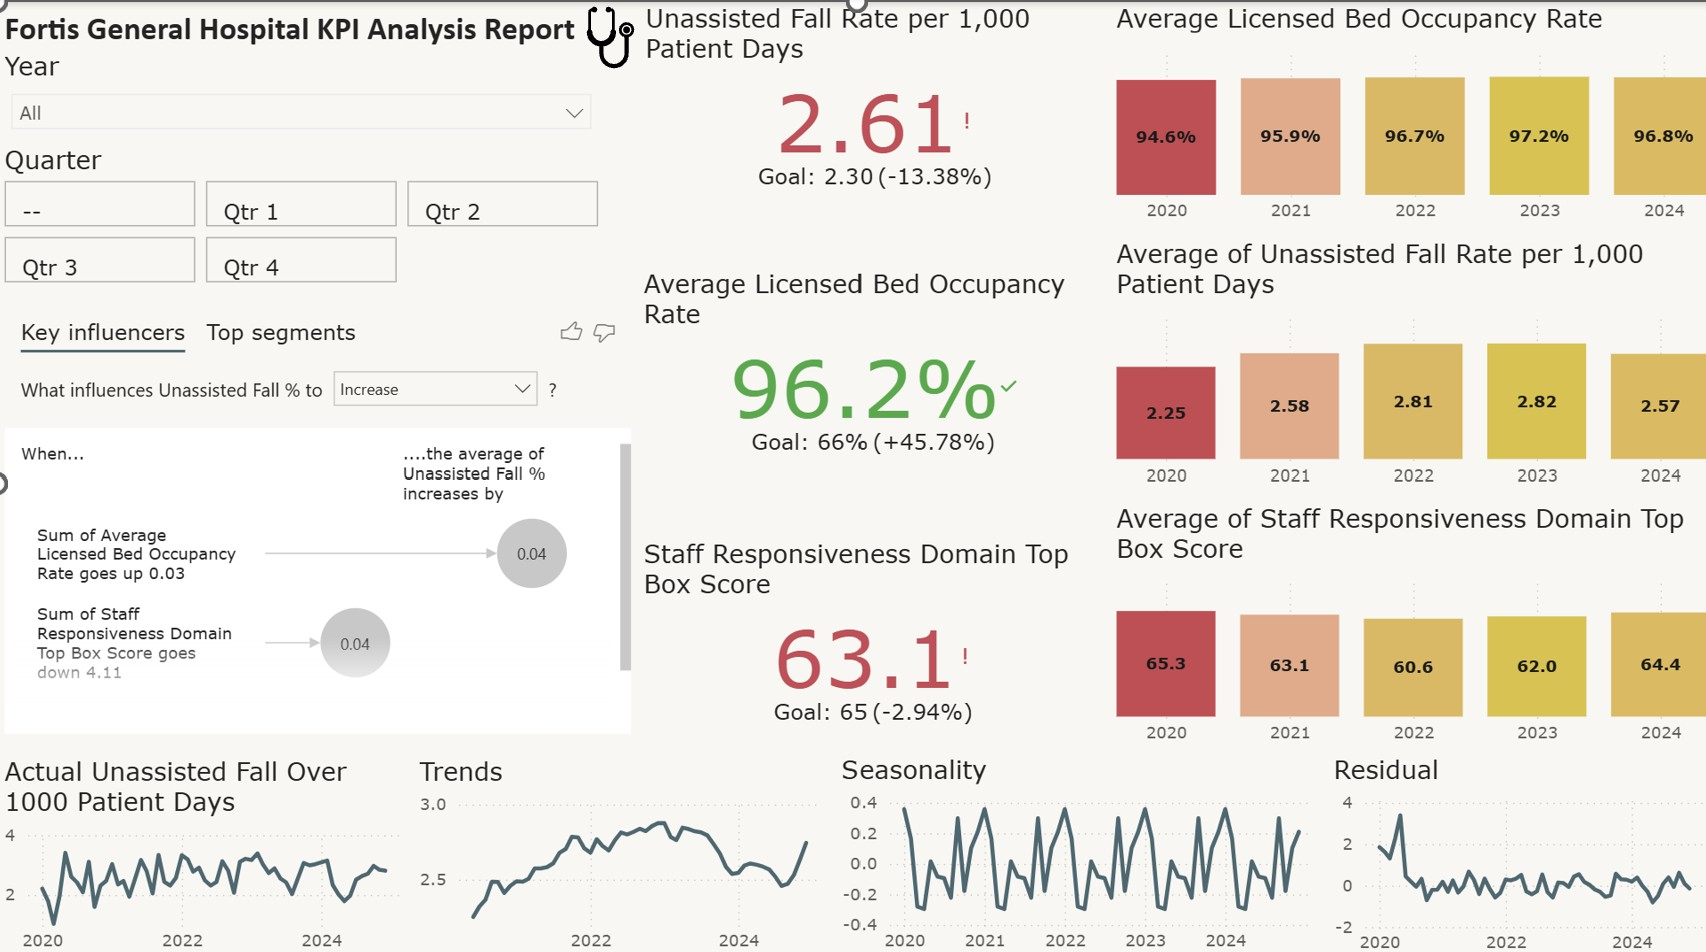

The dashboard page shown, as its layout file describes it:
{"tool":"powerbi","page":{"name":"Dashboard","canvas":[1280,720],"ordinal":4},"visuals":[{"type":"lineChart","title":"Actual Unassisted Fall Over 1000 Patient Days","fields":{"Y":["Sum(Case Study Dataset (2).Unassisted Fall Rate per 1,000 Patient Days)"],"Category":["Case Study Dataset (2).Month.Variation.Date Hierarchy.Year","Case Study Dataset (2).Month.Variation.Date Hierarchy.Quarter","Case Study Dataset (2).Month.Variation.Date Hierarchy.Month","Case Study Dataset (2).Month.Variation.Date Hierarchy.Day"]},"box":[0,563.4,309.3,156.2],"z":0},{"type":"lineChart","title":"Trends ","fields":{"Y":["Sum(Case Study Dataset (2).Trends)"],"Category":["Case Study Dataset (2).Month.Variation.Date Hierarchy.Year","Case Study Dataset (2).Month.Variation.Date Hierarchy.Quarter","Case Study Dataset (2).Month.Variation.Date Hierarchy.Month","Case Study Dataset (2).Month.Variation.Date Hierarchy.Day"]},"box":[309.3,563.4,313.9,156.2],"z":1000},{"type":"lineChart","title":"Seasonality","fields":{"Y":["Sum(Case Study Dataset (2).Seasonal)"],"Category":["Case Study Dataset (2).Month.Variation.Date Hierarchy.Year","Case Study Dataset (2).Month.Variation.Date Hierarchy.Quarter","Case Study Dataset (2).Month.Variation.Date Hierarchy.Month","Case Study Dataset (2).Month.Variation.Date Hierarchy.Day"]},"box":[623.2,561.9,365.9,157.7],"z":2000},{"type":"lineChart","title":"Residual","fields":{"Y":["Sum(Case Study Dataset (2).Residual)"],"Category":["Case Study Dataset (2).Month.Variation.Date Hierarchy.Year","Case Study Dataset (2).Month.Variation.Date Hierarchy.Quarter","Case Study Dataset (2).Month.Variation.Date Hierarchy.Month","Case Study Dataset (2).Month.Variation.Date Hierarchy.Day"]},"box":[989.1,561.9,290.9,159.2],"z":3000},{"type":"columnChart","title":"Average of Staff Responsiveness Domain Top Box Score ","fields":{"Y":["Avg(Case Study Dataset.Staff Responsiveness Domain Top Box Score)"],"Category":["Case Study Dataset.Month.Variation.Date Hierarchy.Year","Case Study Dataset.Month.Variation.Date Hierarchy.Quarter","Case Study Dataset.Month.Variation.Date Hierarchy.Month"]},"box":[827.7,374.1,452.2,189.8],"z":4000},{"type":"columnChart","title":"Average of Unassisted Fall Rate per 1,000 Patient Days ","fields":{"Y":["Avg(Case Study Dataset.Unassisted Fall Rate per 1,000 Patient Days)"],"Category":["Case Study Dataset.Month.Variation.Date Hierarchy.Year","Case Study Dataset.Month.Variation.Date Hierarchy.Quarter","Case Study Dataset.Month.Variation.Date Hierarchy.Month"]},"box":[827.7,176.3,452.2,195.1],"z":5000},{"type":"columnChart","title":"Average Licensed Bed  Occupancy Rate ","fields":{"Y":["Avg(Case Study Dataset.Average Licensed Bed  Occupancy Rate)"],"Category":["Case Study Dataset.Month.Variation.Date Hierarchy.Year","Case Study Dataset.Month.Variation.Date Hierarchy.Quarter","Case Study Dataset.Month.Variation.Date Hierarchy.Month"]},"box":[827.7,0,454.9,173.6],"z":6000},{"type":"keyDriversVisual","fields":{"Target":["Case Study Dataset.Unassisted Fall %"],"ExplainBy":["Sum(Case Study Dataset.Average Licensed Bed  Occupancy Rate)","Sum(Case Study Dataset.Staff Responsiveness Domain Top Box Score)"]},"box":[0,224.7,476.4,328.4],"z":7000},{"type":"kpi","title":"Staff Responsiveness Domain Top Box Score ","fields":{"Indicator":["Avg(Case Study Dataset.Staff Responsiveness Domain Top Box Score)"],"TrendLine":["Case Study Dataset.Staff Responsiveness Top Box Score Benchmark"],"Goal":["Min(Case Study Dataset.Staff Responsiveness Top Box Score Benchmark)"]},"box":[476.4,401,351.3,150.7],"z":8000},{"type":"kpi","title":"Average Licensed Bed Occupancy Rate","fields":{"TrendLine":["Table.Bed Occupancy Benchmark"],"Goal":["Sum(Table.Bed Occupancy Benchmark)"],"Indicator":["Avg(Case Study Dataset.Average Licensed Bed  Occupancy Rate)"]},"box":[476.4,199.2,351.3,150.7],"z":9000},{"type":"kpi","title":"Unassisted Fall Rate per 1,000 Patient Days","fields":{"TrendLine":["Fall.Unassisted Fall Rate per  1000 patient days"],"Goal":["Sum(Fall.Unassisted Fall Rate per  1000 patient days)"],"Indicator":["Avg(Case Study Dataset.Unassisted Fall Rate per 1,000 Patient Days)"]},"box":[477.8,0,351.3,150.7],"z":10000},{"type":"actionButton","box":[0,0,100,40],"z":11000},{"type":"slicer","title":"Year","fields":{"Values":["Case Study Dataset.Month.Variation.Date Hierarchy.Year"]},"box":[0,36.3,452.2,79.4],"z":12000},{"type":"advancedSlicerVisual","fields":{"Values":["Case Study Dataset.Month.Variation.Date Hierarchy.Quarter"]},"box":[0,106.3,452.2,109],"z":13000},{"type":"textbox","box":[0,0,452.2,39.8],"z":14000}]}

Visuals, with their boxes in screenshot pixels (x1, y1, x2, y2), scaled from the page's 1280x720 canvas onto the 1706x952 screenshot:
"Actual Unassisted Fall Over 1000 Patient Days" lineChart: l=0, t=745, r=412, b=951
"Trends " lineChart: l=412, t=745, r=831, b=951
"Seasonality" lineChart: l=831, t=743, r=1318, b=951
"Residual" lineChart: l=1318, t=743, r=1705, b=951
"Average of Staff Responsiveness Domain Top Box Score " columnChart: l=1103, t=495, r=1705, b=746
"Average of Unassisted Fall Rate per 1,000 Patient Days " columnChart: l=1103, t=233, r=1705, b=491
"Average Licensed Bed  Occupancy Rate " columnChart: l=1103, t=0, r=1705, b=230
keyDriversVisual - Case Study Dataset.Unassisted Fall % x Sum(Case Study Dataset.Average Licensed Bed  Occupancy Rate): l=0, t=297, r=635, b=731
"Staff Responsiveness Domain Top Box Score " kpi: l=635, t=530, r=1103, b=729
"Average Licensed Bed Occupancy Rate" kpi: l=635, t=263, r=1103, b=463
"Unassisted Fall Rate per 1,000 Patient Days" kpi: l=637, t=0, r=1105, b=199
actionButton: l=0, t=0, r=133, b=53
"Year" slicer: l=0, t=48, r=603, b=153
advancedSlicerVisual - Case Study Dataset.Month.Variation.Date Hierarchy.Quarter: l=0, t=141, r=603, b=285
textbox: l=0, t=0, r=603, b=53
